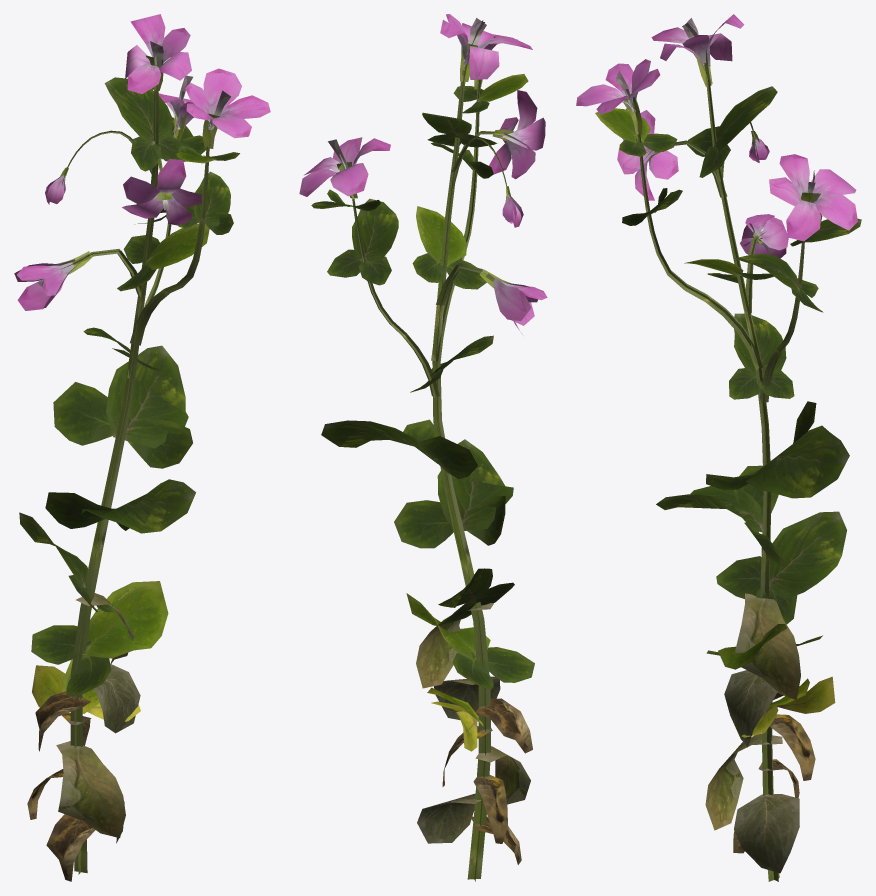
File: Periwinkle_OG_normal_pink.glb
The picture shows the model from 3 angles, left to right: view 1: azimuth 30°, elevation 25°; view 2: azimuth 150°, elevation 25°; view 3: azimuth 270°, elevation 25°; orthographic projection. The views are drawn at different scales.
Parts seen in each view (by area): view 1: _419c_Var3_LOD1; view 2: _419c_Var3_LOD1; view 3: _419c_Var3_LOD1.
Part boxes in pixels (x1,y1,x2,y2): _419c_Var3_LOD1: (14,14,270,881); _419c_Var3_LOD1: (299,14,547,881); _419c_Var3_LOD1: (576,14,861,881).
Size of the model in its own units: 0.6129 by 2.19 by 0.6394.
Materials: 1 (1 with a texture image).
